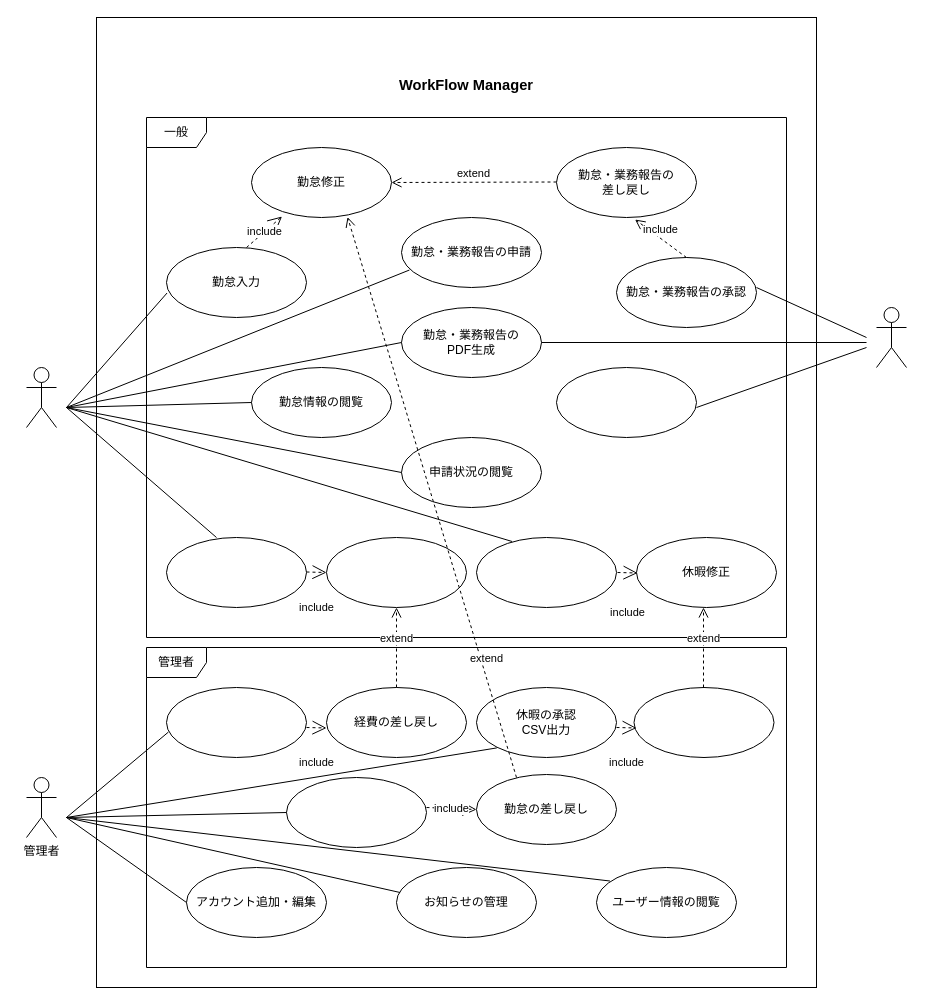
This 944x1005 diagram has some shape labels left out. The shapes that lost their labels are listed below. From the top down, each one's box as (x1, y1, x2, y2) in pixels, then its label:
(876, 306, 906, 368): クライアント
(26, 366, 56, 428): ユーザー
(556, 366, 696, 438): 稼働時間の閲覧
(166, 536, 306, 608): 経費申請
(326, 536, 466, 608): 経費修正
(476, 536, 616, 608): 休暇申請
(166, 686, 306, 758): 経費の承認 CSV出力
(633, 686, 774, 758): 休暇の差し戻し
(286, 776, 426, 848): 勤怠の承認 CSV出力 PDF生成
